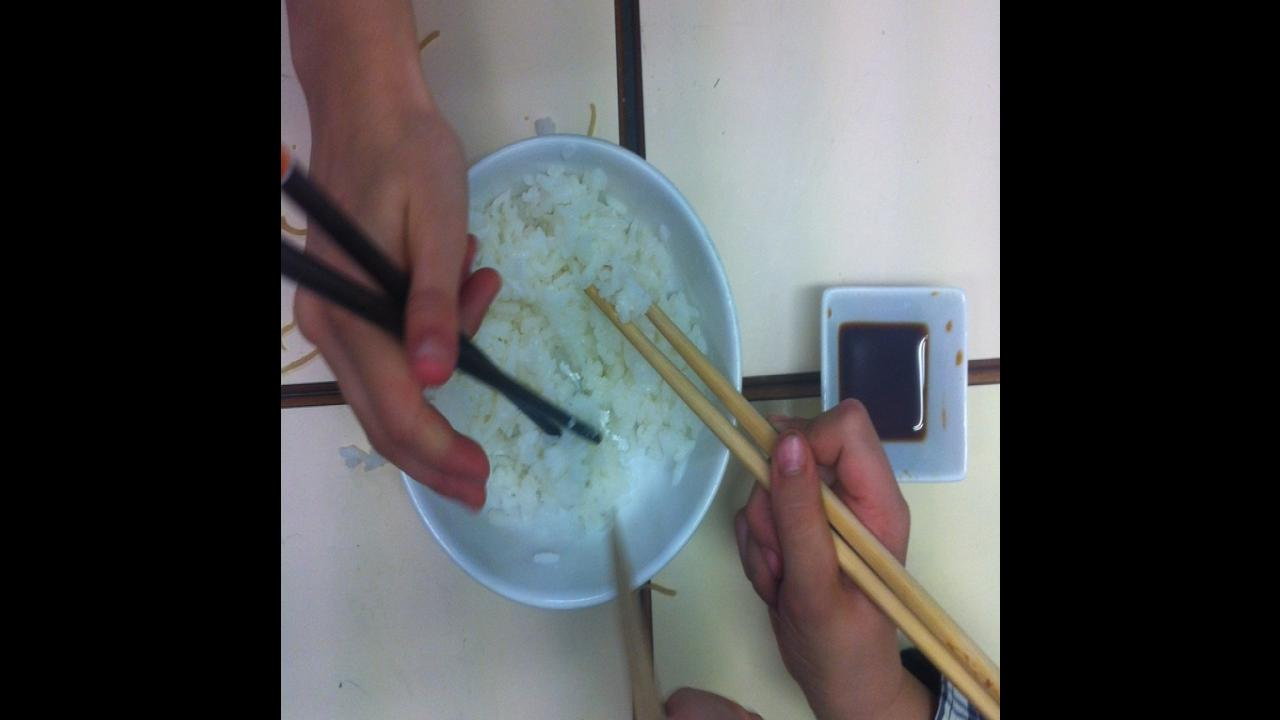chopstick: (586, 289, 999, 720), (281, 138, 598, 446), (607, 528, 725, 720)
